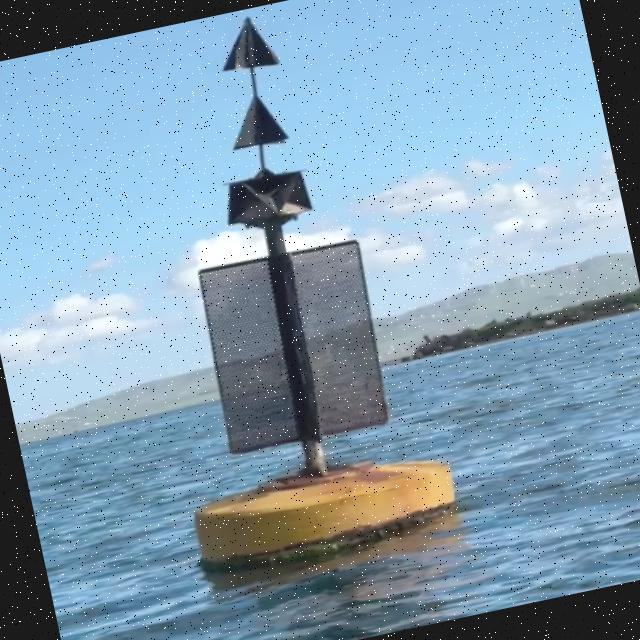marque: (98, 1, 468, 578)
